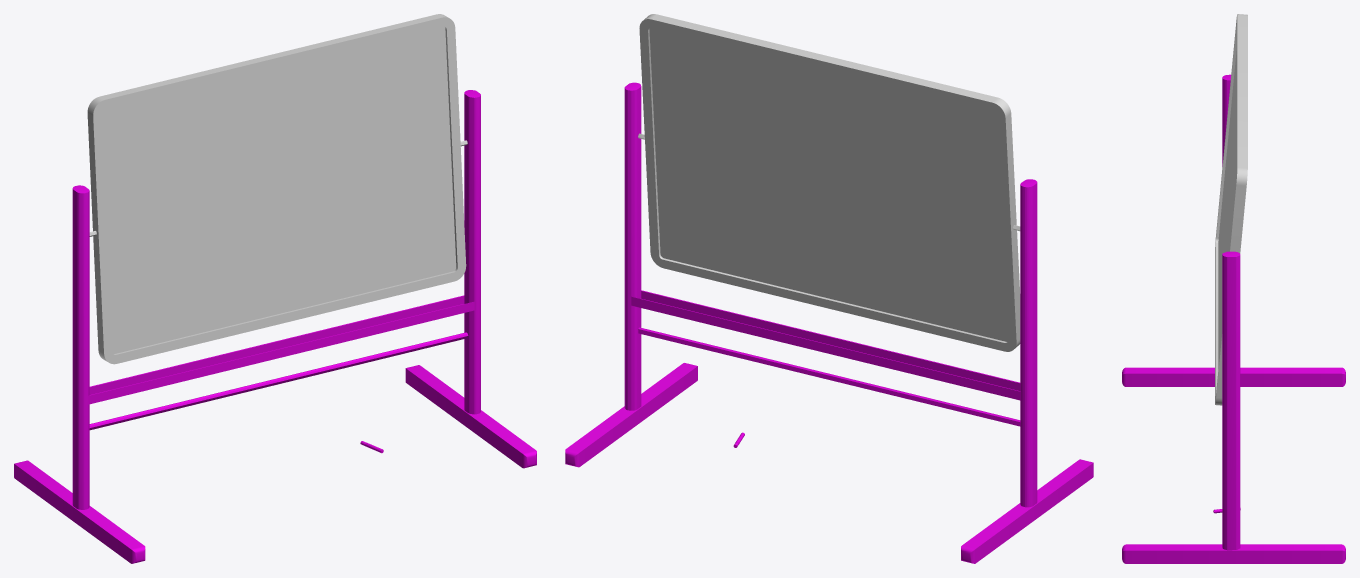
The model's file is Pizarra.fbx.
3 views of the same model, side by side, from view 1: azimuth 30°, elevation 25°; view 2: azimuth 150°, elevation 25°; view 3: azimuth 270°, elevation 25° (orthographic). The views are drawn at different scales.
Visible parts, largest first — view 1: Pizarra_Pizarra_Pizarra, pen tray, polySurface4, polySurface3, polySurface1, polySurface2, polySurface5; view 2: Pizarra_Pizarra_Pizarra, pen tray, polySurface4, polySurface3, polySurface1, polySurface2, polySurface5; view 3: Pizarra_Pizarra_Pizarra, polySurface3, polySurface1, polySurface2, polySurface4.
Boxes of the visible parts, x1,y1,x2,y2 form: Pizarra_Pizarra_Pizarra: [87, 14, 467, 364]; pen tray: [88, 295, 474, 404]; polySurface4: [72, 185, 89, 509]; polySurface3: [464, 90, 480, 414]; polySurface1: [405, 365, 536, 468]; polySurface2: [14, 460, 145, 563]; polySurface5: [89, 332, 468, 430]; Pizarra_Pizarra_Pizarra: [638, 14, 1020, 351]; pen tray: [631, 290, 1021, 400]; polySurface4: [1020, 179, 1037, 507]; polySurface3: [624, 82, 641, 410]; polySurface1: [565, 363, 697, 467]; polySurface2: [961, 459, 1093, 563]; polySurface5: [638, 327, 1020, 426]; Pizarra_Pizarra_Pizarra: [1215, 14, 1247, 405]; polySurface3: [1222, 251, 1240, 550]; polySurface1: [1122, 544, 1345, 563]; polySurface2: [1122, 367, 1345, 386]; polySurface4: [1222, 74, 1231, 166].
Bounding box in the file's own units: 828 × 804 × 428.
